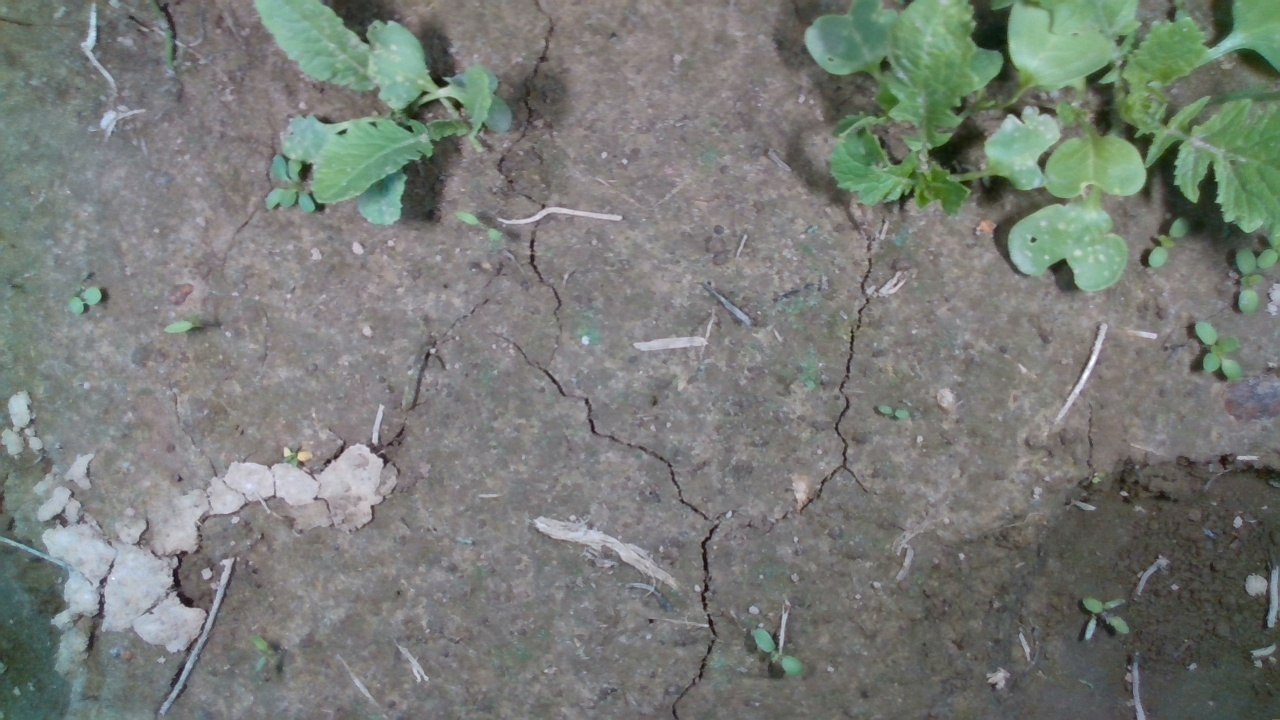weed: (1193, 319, 1243, 383), (751, 627, 806, 677), (1079, 594, 1131, 644), (1147, 214, 1191, 270), (450, 208, 504, 242), (248, 633, 283, 673), (66, 284, 104, 316), (160, 311, 206, 335)
